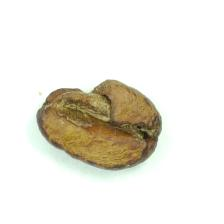NG: (38, 79, 112, 129), (121, 103, 159, 164)
